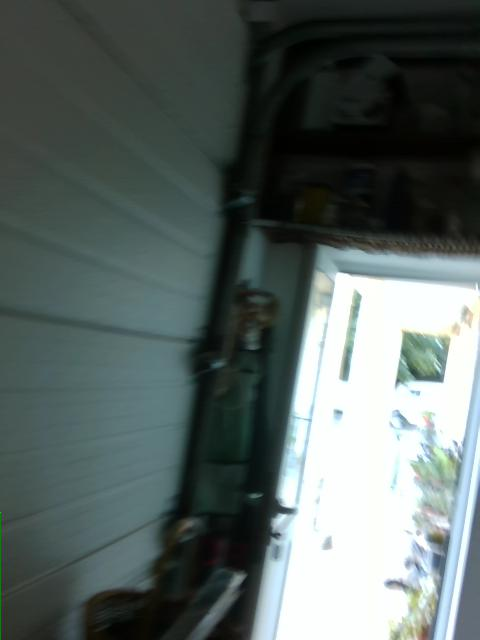open_door: (270, 259, 478, 639)
